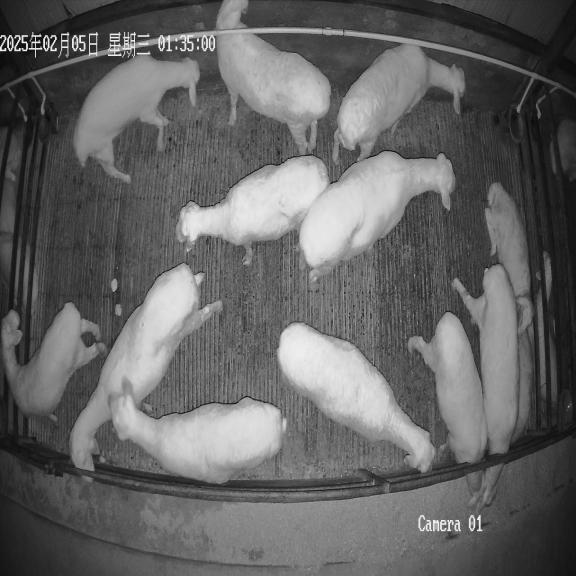eating: (452, 264, 519, 506), (407, 312, 487, 513)
lying: (485, 182, 533, 333), (512, 329, 533, 442)
stand: (69, 263, 222, 470), (277, 323, 436, 472), (298, 151, 455, 288), (109, 380, 286, 484), (216, 0, 331, 154), (176, 156, 328, 264), (73, 54, 200, 183), (332, 44, 466, 164), (0, 302, 106, 422)
